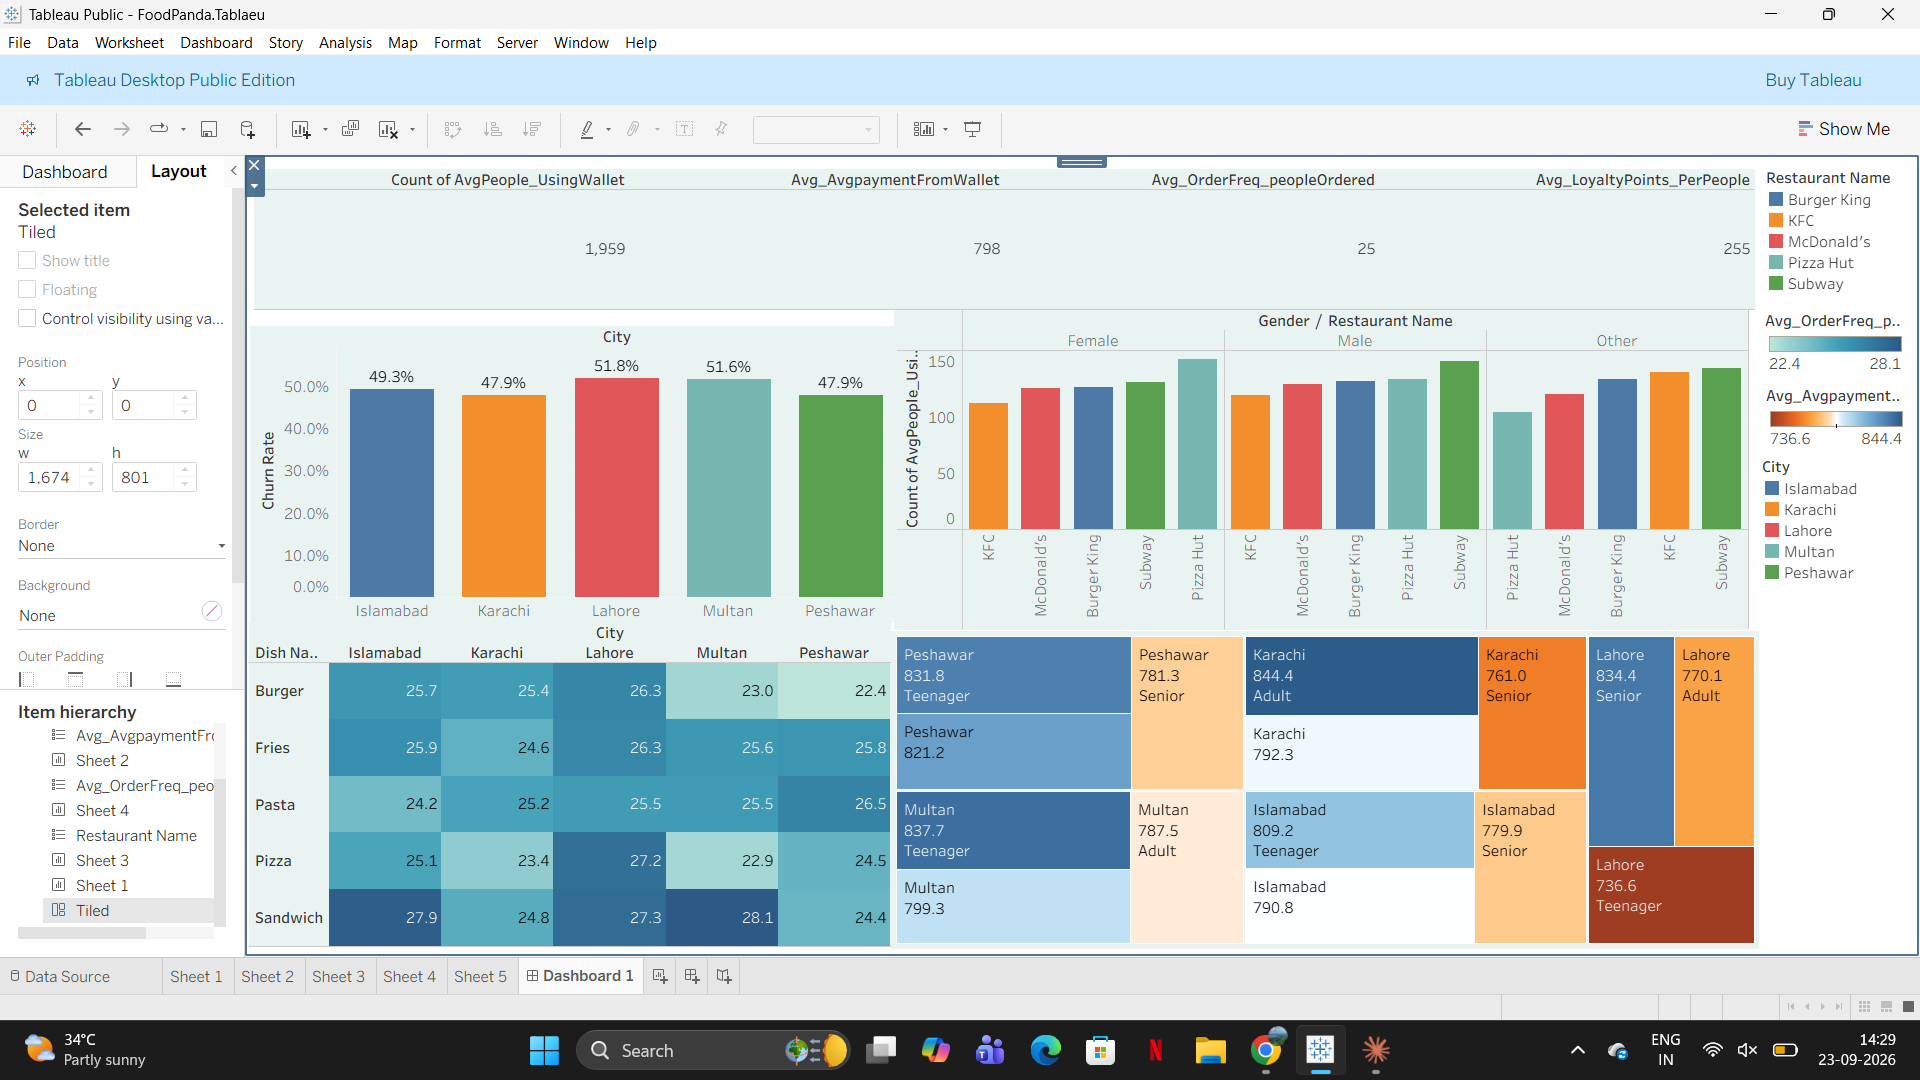

The dashboard page shown, as its layout file describes it:
{"tool":"tableau","page":{"name":"Dashboard 1","canvas":[1000,1000],"units":"permille","ordinal":0},"visuals":[{"type":"legend","title":"Sheet 3","param":"[federated.0kkvdfj0zbdye011ka9k913ao901].[none:restaurant_name:nk]","box":[908.9,15,84.5,158.6]},{"type":"worksheet","title":"Sheet 1","mark":"Automatic","box":[5.4,17.5,896.8,176]},{"type":"worksheet","title":"Sheet 3","mark":"Automatic","rows":["Calculation_1537697855300775936"],"cols":["gender","restaurant_name"],"box":[387.7,193.5,510.8,399.5]},{"type":"legend","title":"Sheet 4","param":"[federated.0kkvdfj0zbdye011ka9k913ao901].[usr:Calculation_1537697855304237058:qk","box":[908.3,193.5,84.5,96.1]},{"type":"worksheet","title":"Sheet 5","mark":"Bar","rows":["Calculation_1683501883910291456"],"cols":["city"],"box":[3,194.8,386.5,388.3]},{"type":"legend","title":"Sheet 2","param":"[federated.0kkvdfj0zbdye011ka9k913ao901].[usr:Calculation_1537697855303368705:qk","box":[908.9,287.1,84.5,109.9]},{"type":"legend","title":"Sheet 5","param":"[federated.0kkvdfj0zbdye011ka9k913ao901].[none:city:nk]","box":[906.5,375.8,84.5,158.6]},{"type":"worksheet","title":"Sheet 4","mark":"Square","rows":["dish_name"],"cols":["city"],"box":[2.4,583,383.5,405.7]},{"type":"worksheet","title":"Sheet 2","mark":"Automatic","box":[385.9,594.3,518.5,397]}]}

Visuals, with their boxes on the dashboard's canvas, which has no fixed pixel size, in thousandths of its width and height (x1, y1, x2, y2). These are canvas units, not pixel positions in the 1920x1080 screenshot, which may show the page scaled, cropped or inside an application window:
"Sheet 3" legend: x1=909 y1=15 x2=993 y2=174
"Sheet 1" worksheet: x1=5 y1=18 x2=902 y2=194
"Sheet 3" worksheet: x1=388 y1=194 x2=898 y2=593
"Sheet 4" legend: x1=908 y1=194 x2=993 y2=290
"Sheet 5" worksheet (Bar marks): x1=3 y1=195 x2=390 y2=583
"Sheet 2" legend: x1=909 y1=287 x2=993 y2=397
"Sheet 5" legend: x1=906 y1=376 x2=991 y2=534
"Sheet 4" worksheet (Square marks): x1=2 y1=583 x2=386 y2=989
"Sheet 2" worksheet: x1=386 y1=594 x2=904 y2=991
